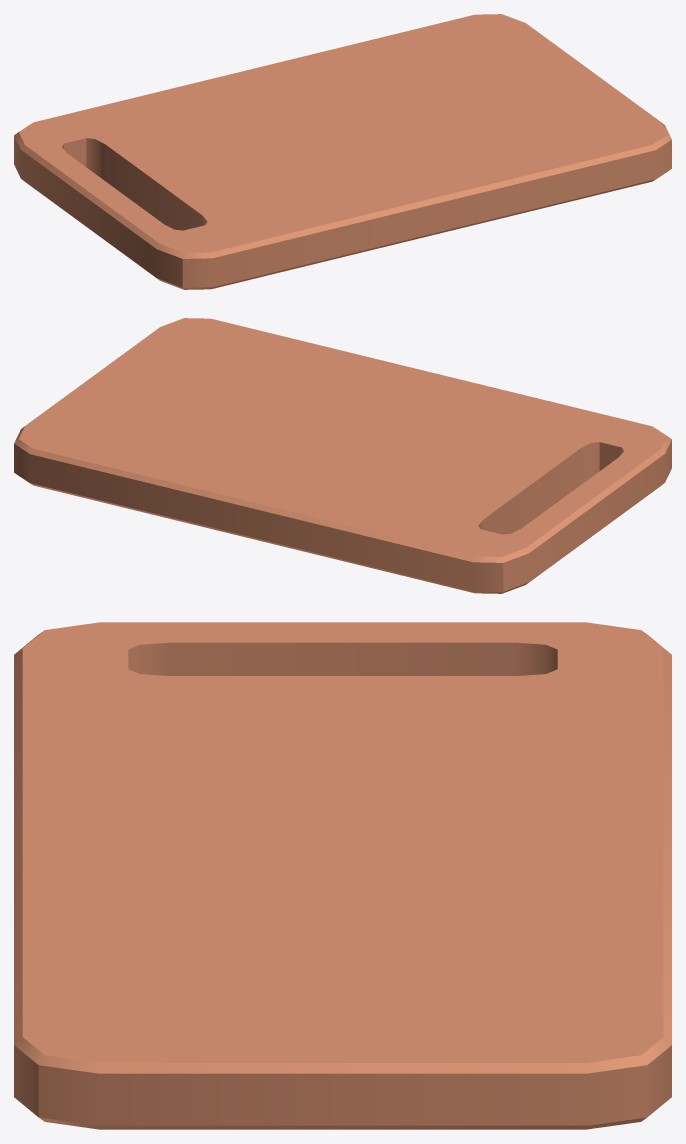
File: Cutting Board.glb
3 views of the same model, one above another, from view 1: azimuth 30°, elevation 25°; view 2: azimuth 150°, elevation 25°; view 3: azimuth 270°, elevation 25° (orthographic). The views are drawn at different scales.
Visible parts, largest first — view 1: board_cutting_board.001_Cube.117; view 2: board_cutting_board.001_Cube.117; view 3: board_cutting_board.001_Cube.117.
Boxes of the visible parts, bbox=[...] form: board_cutting_board.001_Cube.117: bbox=[14, 14, 671, 289]; board_cutting_board.001_Cube.117: bbox=[14, 318, 671, 593]; board_cutting_board.001_Cube.117: bbox=[14, 622, 671, 1129].
Size of the model in its own units: 4.93 by 0.3423 by 3.07.
Materials: 1 (1 with a texture image).
